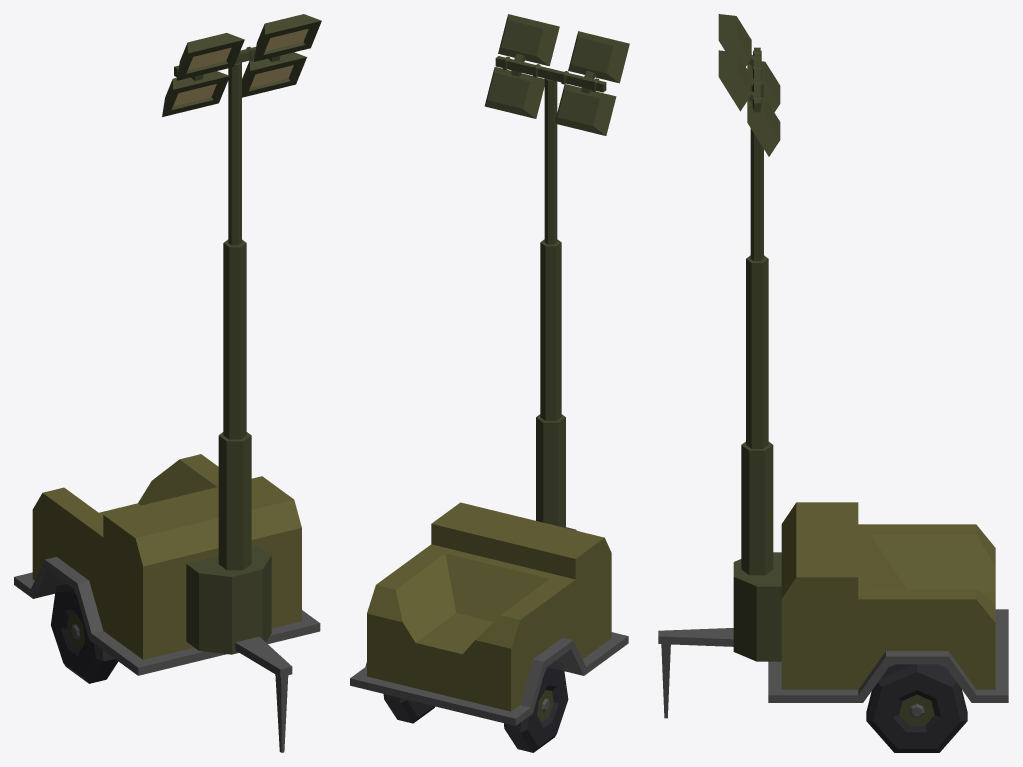
Rendered from LPWarPack_GeneratorLight.fbx.
The picture shows the model from 3 angles, left to right: view 1: azimuth 30°, elevation 25°; view 2: azimuth 150°, elevation 25°; view 3: azimuth 270°, elevation 25°; orthographic projection. The views are drawn at different scales.
Parts seen in each view (by area): view 1: GeneratorLight; view 2: GeneratorLight; view 3: GeneratorLight.
Boxes of the visible parts, x1,y1,x2,y2 form: GeneratorLight: [14, 14, 321, 752]; GeneratorLight: [350, 14, 629, 752]; GeneratorLight: [658, 14, 1008, 752].
Size of the model in its own units: 94.12 by 344 by 162.
